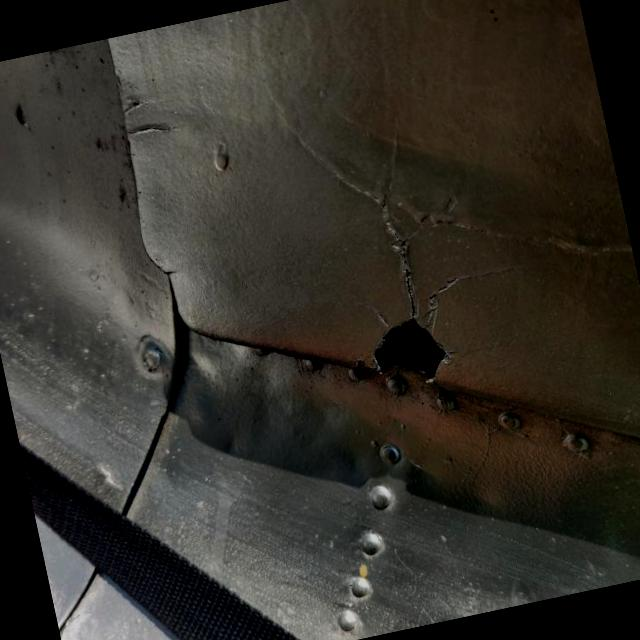crack: (296, 172, 502, 428)
